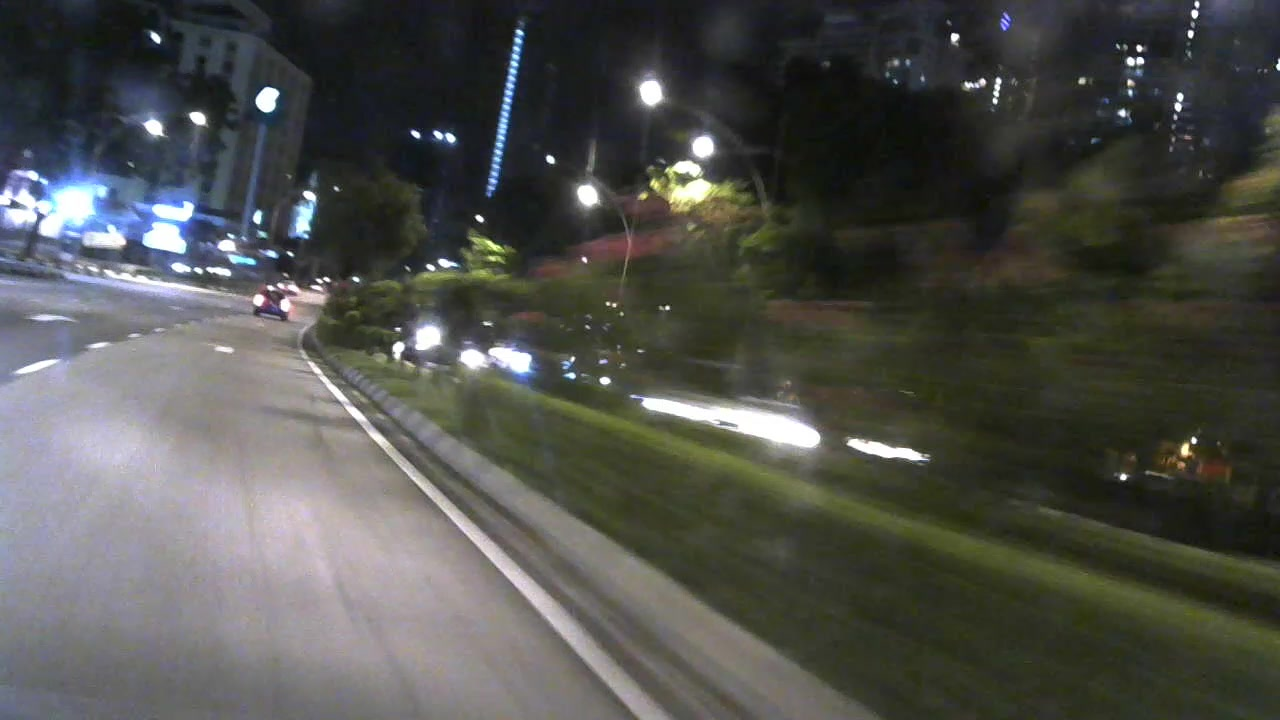Car: (247, 289, 293, 321)
